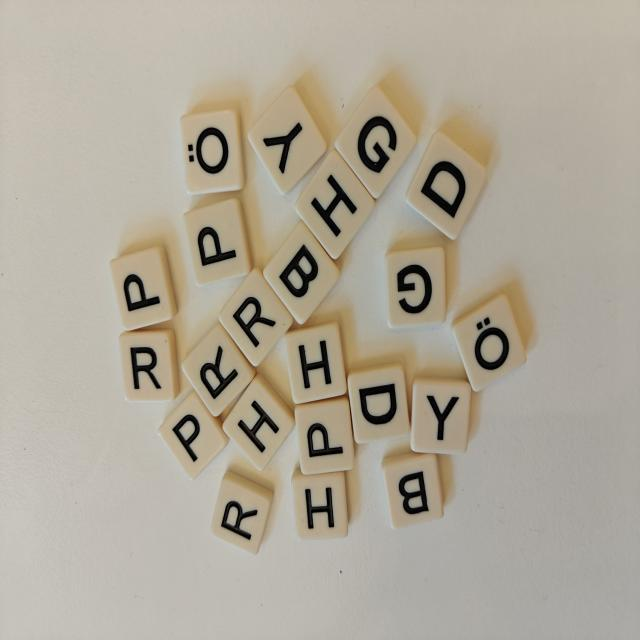b: (263, 221, 340, 324), (382, 453, 443, 529)
d: (406, 131, 487, 239), (348, 362, 410, 443)
g: (335, 85, 417, 199), (385, 246, 446, 328)
h: (296, 150, 375, 259), (223, 374, 295, 471), (285, 321, 347, 404), (292, 469, 348, 539)
o_dot: (452, 294, 526, 391), (180, 110, 244, 194)
p: (159, 391, 229, 479), (184, 199, 252, 286), (110, 246, 177, 330), (295, 396, 354, 474)
r: (219, 268, 293, 366), (182, 322, 255, 416), (212, 471, 273, 554), (120, 329, 180, 401)
y: (248, 86, 327, 194), (411, 378, 471, 454)
